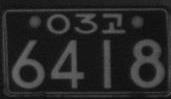0: (46, 13, 71, 34)
1: (91, 39, 122, 88)
3: (74, 13, 98, 34)
4: (50, 39, 84, 89)
6: (9, 40, 46, 89)
8: (130, 37, 165, 90)
고: (101, 13, 125, 33)
